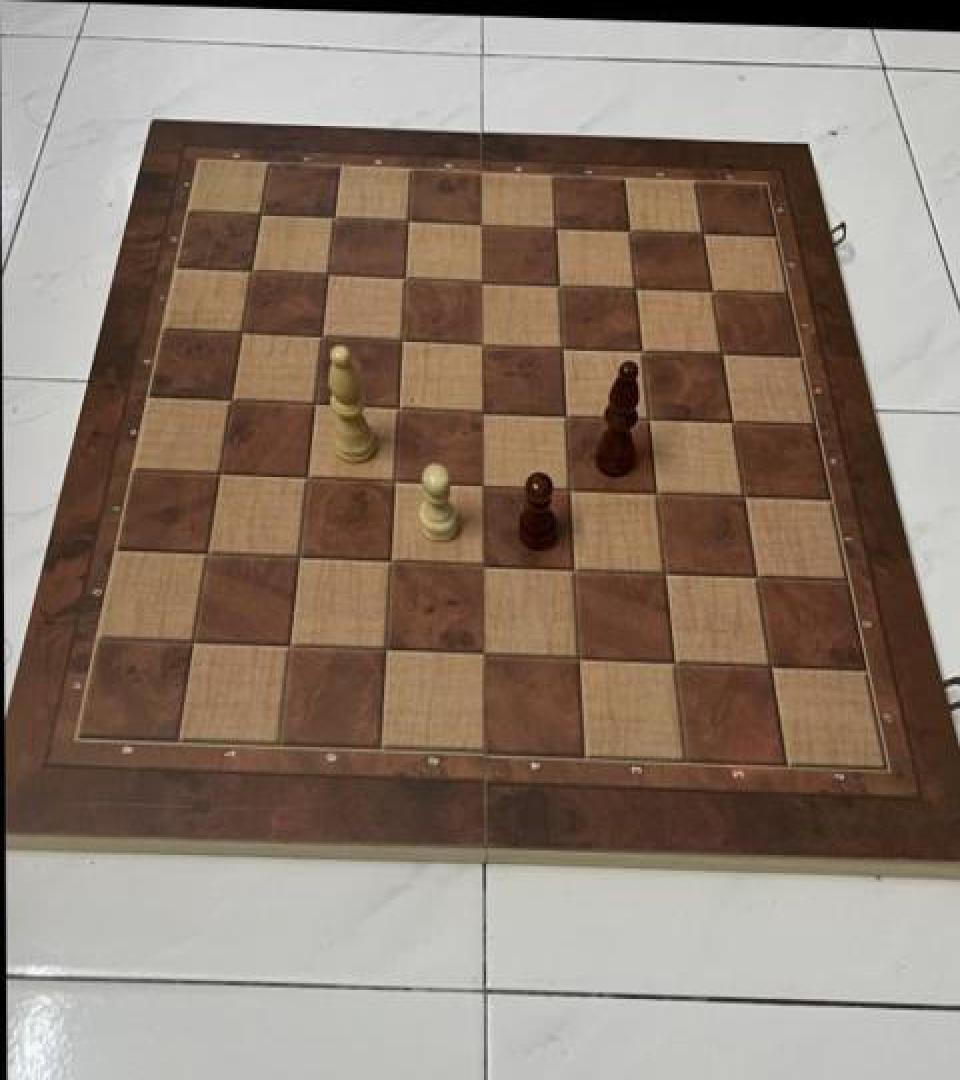xcorner: (465, 202, 499, 241), (464, 462, 498, 501), (243, 192, 277, 230), (317, 196, 351, 234), (391, 199, 425, 237), (539, 206, 573, 244), (613, 208, 647, 246), (686, 212, 720, 250), (234, 250, 268, 288), (311, 253, 345, 291), (388, 256, 422, 294), (465, 260, 499, 298), (542, 262, 576, 300), (618, 266, 652, 304), (695, 269, 729, 307), (224, 312, 258, 350), (305, 315, 339, 353), (385, 318, 419, 356), (465, 322, 499, 360), (545, 325, 579, 363), (624, 328, 658, 366), (704, 332, 738, 370), (213, 378, 247, 416), (297, 382, 331, 420), (381, 386, 415, 424), (464, 390, 498, 428), (548, 393, 582, 431), (631, 396, 665, 434), (714, 400, 748, 438), (202, 451, 236, 489), (289, 456, 323, 494), (377, 459, 411, 497), (551, 466, 585, 504), (638, 469, 672, 507), (725, 474, 759, 512), (189, 532, 223, 570), (280, 536, 314, 574), (372, 539, 406, 577), (464, 544, 498, 582), (555, 547, 589, 585), (646, 550, 680, 588), (737, 554, 771, 592), (174, 620, 208, 658), (271, 624, 305, 662), (367, 628, 401, 666), (463, 631, 497, 669), (559, 636, 593, 674), (655, 639, 689, 677), (750, 644, 784, 682)
